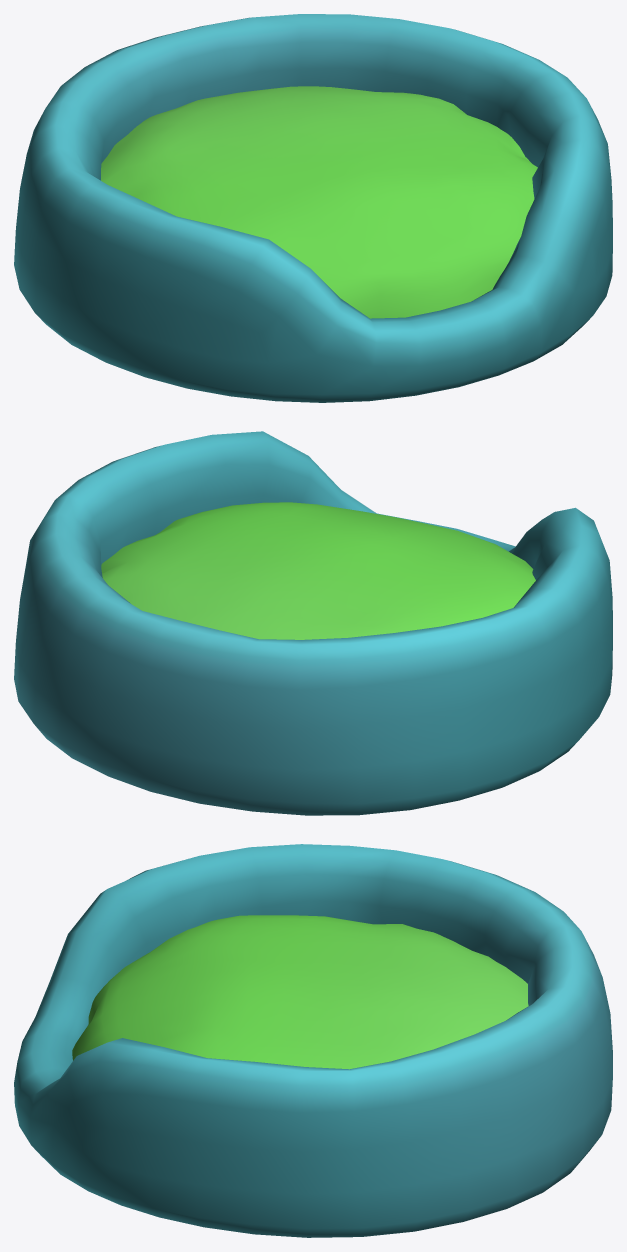
File: TablePet_03.fbx
3 views of the same model, one above another, from view 1: azimuth 30°, elevation 25°; view 2: azimuth 150°, elevation 25°; view 3: azimuth 270°, elevation 25° (orthographic).
Parts seen in each view (by area): view 1: TablePet_03; view 2: TablePet_03; view 3: TablePet_03.
Boxes of the visible parts, box(x1,y1,x2,y2) form: TablePet_03: box(14, 14, 612, 402); TablePet_03: box(14, 431, 612, 815); TablePet_03: box(14, 844, 612, 1237).
Size of the model in its own units: 72.27 by 21.19 by 71.83.
